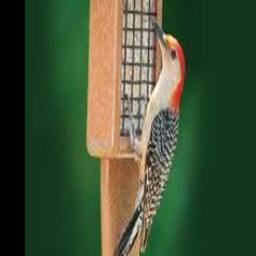Woodpecker: (113, 15, 185, 256)
